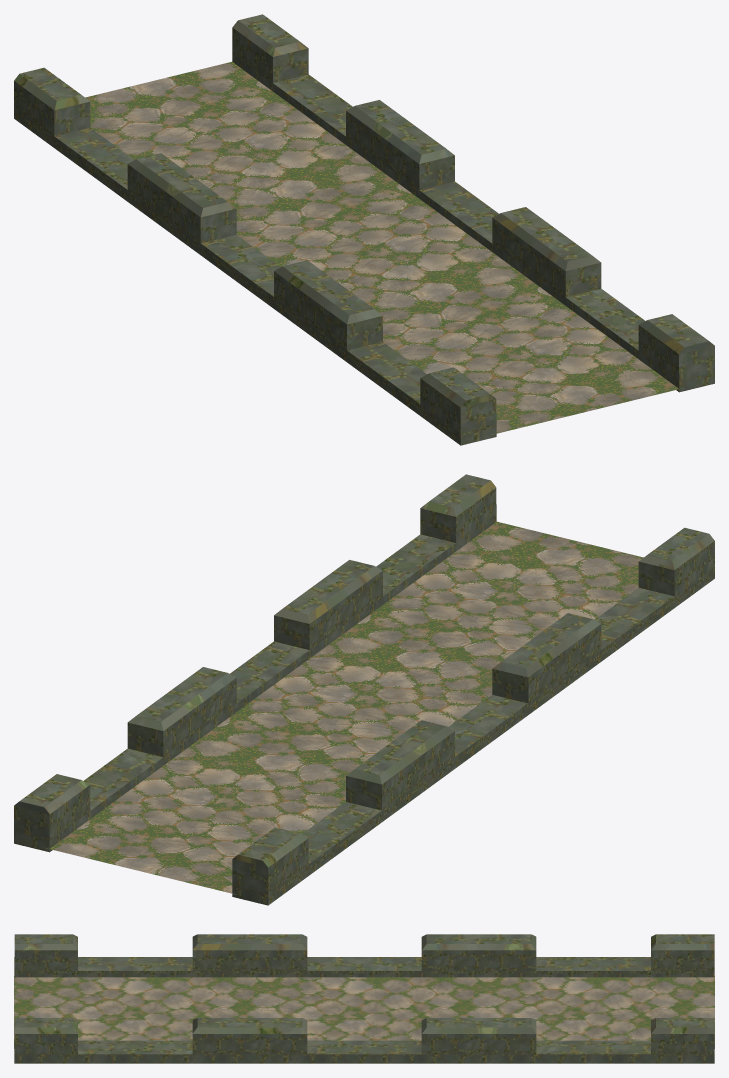
The model's file is Ground2.fbx.
The picture shows the model from 3 angles, top to bottom: view 1: azimuth 30°, elevation 25°; view 2: azimuth 150°, elevation 25°; view 3: azimuth 270°, elevation 25°; orthographic projection. The views are drawn at different scales.
Visible parts, largest first — view 1: Ground2; view 2: Ground2; view 3: Ground2.
Part boxes in pixels (x1,y1,x2,y2): Ground2: [14, 14, 714, 445]; Ground2: [14, 474, 714, 905]; Ground2: [14, 934, 714, 1063].
Bounding box in the file's own units: 656 × 108 × 2000.
1 material, 1 textured.
